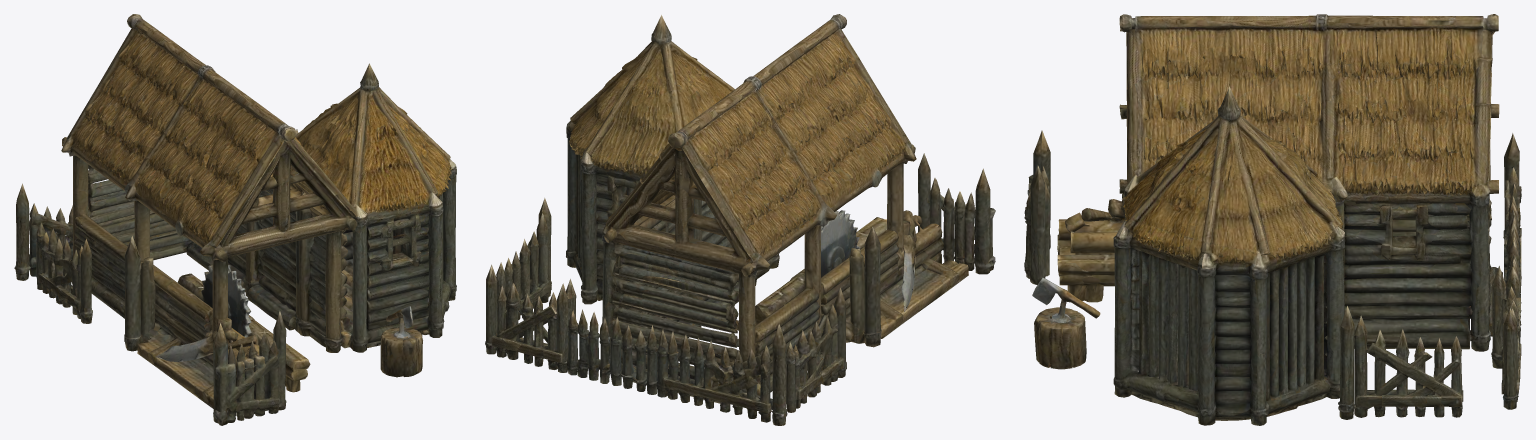
The model's file is lumber_camp__thatchwood-sawmill.glb.
3 renders of one model, left to right at view 1: azimuth 30°, elevation 25°; view 2: azimuth 150°, elevation 25°; view 3: azimuth 270°, elevation 25°, orthographic. The views are drawn at different scales.
Visible parts, largest first — view 1: mesh_node; view 2: mesh_node; view 3: mesh_node.
Part boxes in pixels (x1,y1,x2,y2): mesh_node: (14, 14, 456, 425); mesh_node: (485, 14, 995, 425); mesh_node: (1024, 14, 1521, 425).
Bounding box in the file's own units: 1.65 × 1.24 × 1.9.
Materials: 1 (1 with a texture image).
